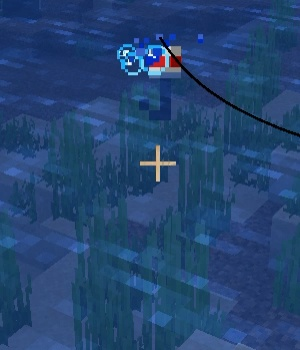up: (141, 42, 185, 124)
